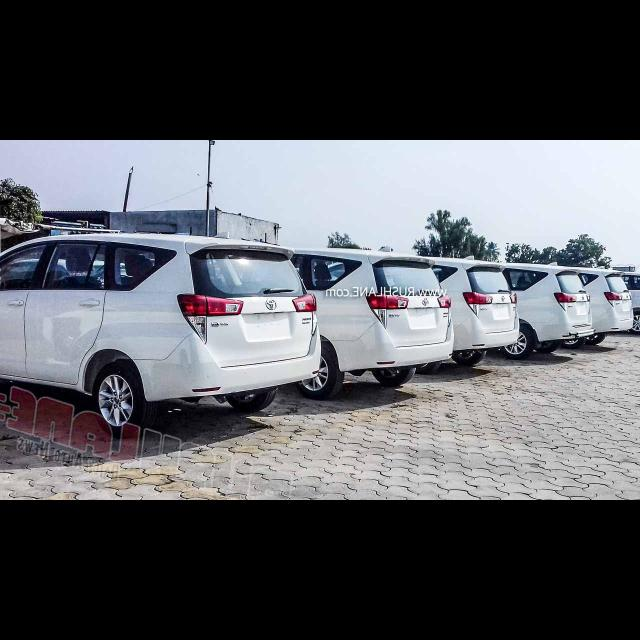vehicles: (0, 235, 318, 430), (292, 245, 451, 399), (417, 254, 515, 366), (492, 260, 588, 360), (588, 261, 640, 342)
